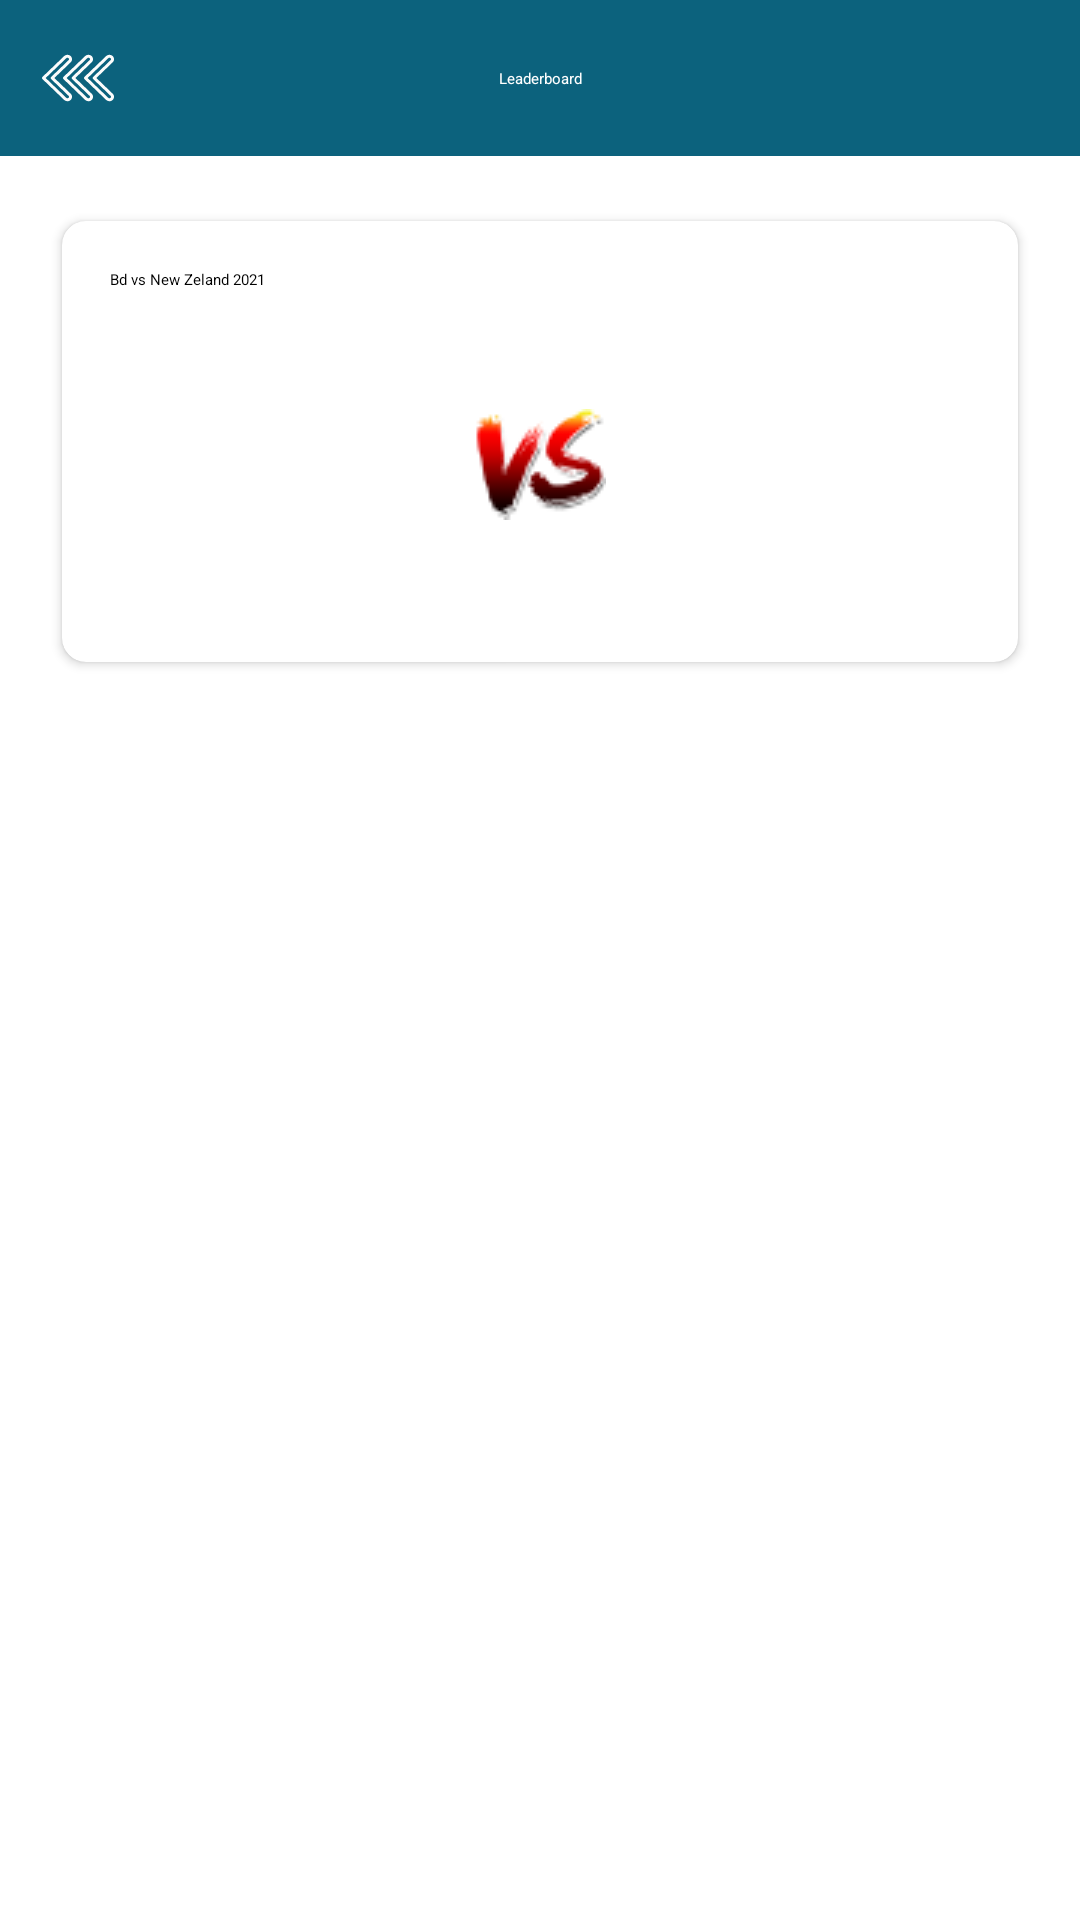

Named icons in this screenshot (1080x1920) and their centers, (x,y):
arrow back: (78,78)
